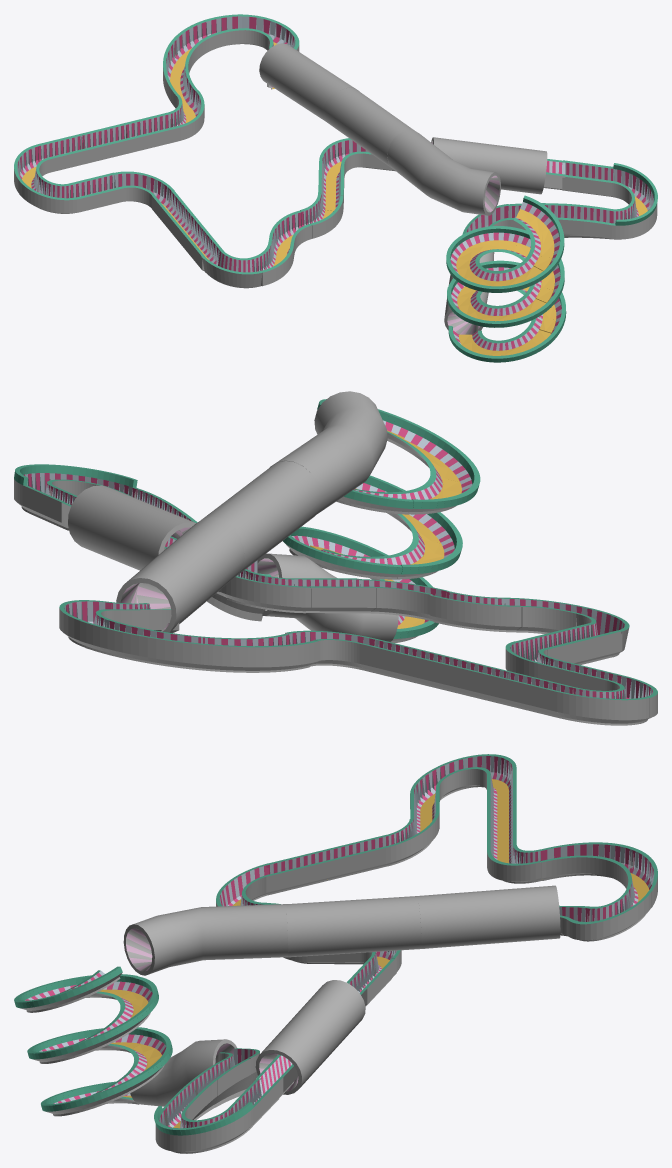
The model's file is Track_01.fbx.
3 renders of one model, top to bottom at view 1: azimuth 30°, elevation 25°; view 2: azimuth 150°, elevation 25°; view 3: azimuth 270°, elevation 25°, orthographic. The views are drawn at different scales.
Visible parts, largest first — view 1: polySurface3, pPipe6, polySurface4, pPipe3, pCube14 (×2), pCube11 (×2), pCube15 (×2), pCube12 (×2), pCube16, pCube42, newtunneltrack:figure8track:pCube11, test:figure8track:pCube11 (+24 smaller); view 2: polySurface4, polySurface3, pPipe6, pPipe3, pCube11 (×2), pCube16, pCube15 (×2), pCube17, polySurface5, pCube44, pCube26, pCube14 (×2) (+23 smaller); view 3: polySurface3, polySurface4, pPipe3, pPipe6, pCube14 (×2), polySurface5, pCube17, pCube15 (×2), pCube12 (×2), newtunneltrack:pCube8, pCube24, pCube21 (+22 smaller).
Boxes of the visible parts, <box> form: polySurface3: <box>387,130,500,215</box>; pPipe6: <box>431,137,547,194</box>; polySurface4: <box>259,43,358,121</box>; pPipe3: <box>323,87,414,168</box>; pCube14 (×2): <box>242,14,521,260</box>; pCube11 (×2): <box>14,144,562,327</box>; pCube15 (×2): <box>169,90,500,327</box>; pCube12 (×2): <box>81,123,564,289</box>; pCube16: <box>171,14,247,62</box>; pCube42: <box>513,195,564,258</box>; newtunneltrack:figure8track:pCube11: <box>560,203,612,239</box>; test:figure8track:pCube11: <box>501,312,565,362</box>; polySurface4: <box>116,517,244,632</box>; polySurface3: <box>269,391,387,514</box>; pPipe6: <box>68,485,195,570</box>; pPipe3: <box>201,461,322,574</box>; pCube11 (×2): <box>356,475,648,725</box>; pCube16: <box>80,619,209,670</box>; pCube15 (×2): <box>285,530,462,670</box>; pCube17: <box>201,634,318,672</box>; polySurface5: <box>257,553,398,641</box>; pCube44: <box>381,410,478,481</box>; pCube26: <box>430,591,521,632</box>; pCube14 (×2): <box>59,489,413,647</box>; polySurface3: <box>123,904,288,975</box>; polySurface4: <box>417,885,560,948</box>; pPipe3: <box>286,896,427,957</box>; pPipe6: <box>255,980,365,1094</box>; pCube14 (×2): <box>111,891,651,1028</box>; polySurface5: <box>130,1039,237,1106</box>; pCube17: <box>540,842,633,880</box>; pCube15 (×2): <box>48,845,542,1051</box>; pCube12 (×2): <box>45,793,516,1062</box>; newtunneltrack:pCube8: <box>180,1102,253,1153</box>; pCube24: <box>266,849,327,895</box>; pCube21: <box>326,835,387,880</box>.
Size of the model in its own units: 5809 by 1860 by 5143.
